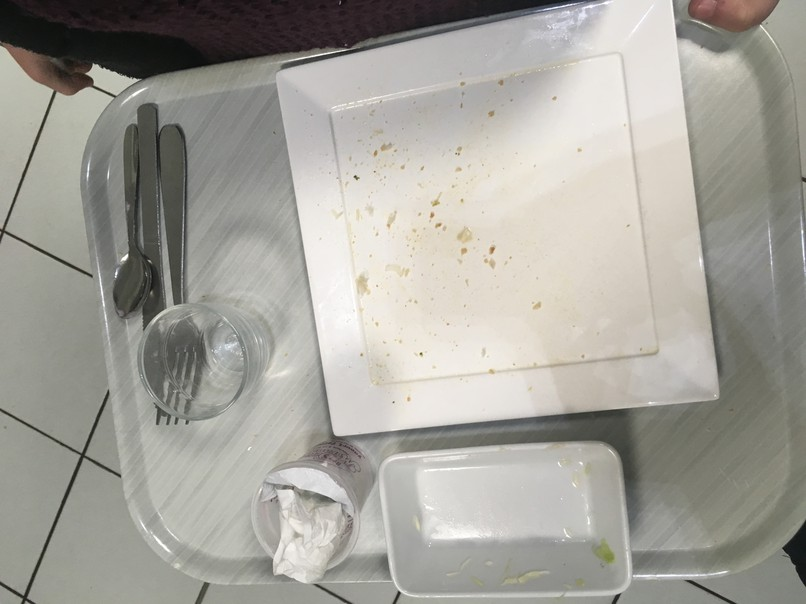cup: (115, 287, 262, 437)
cutlery: (101, 97, 202, 438)
trash: (252, 424, 380, 586)
